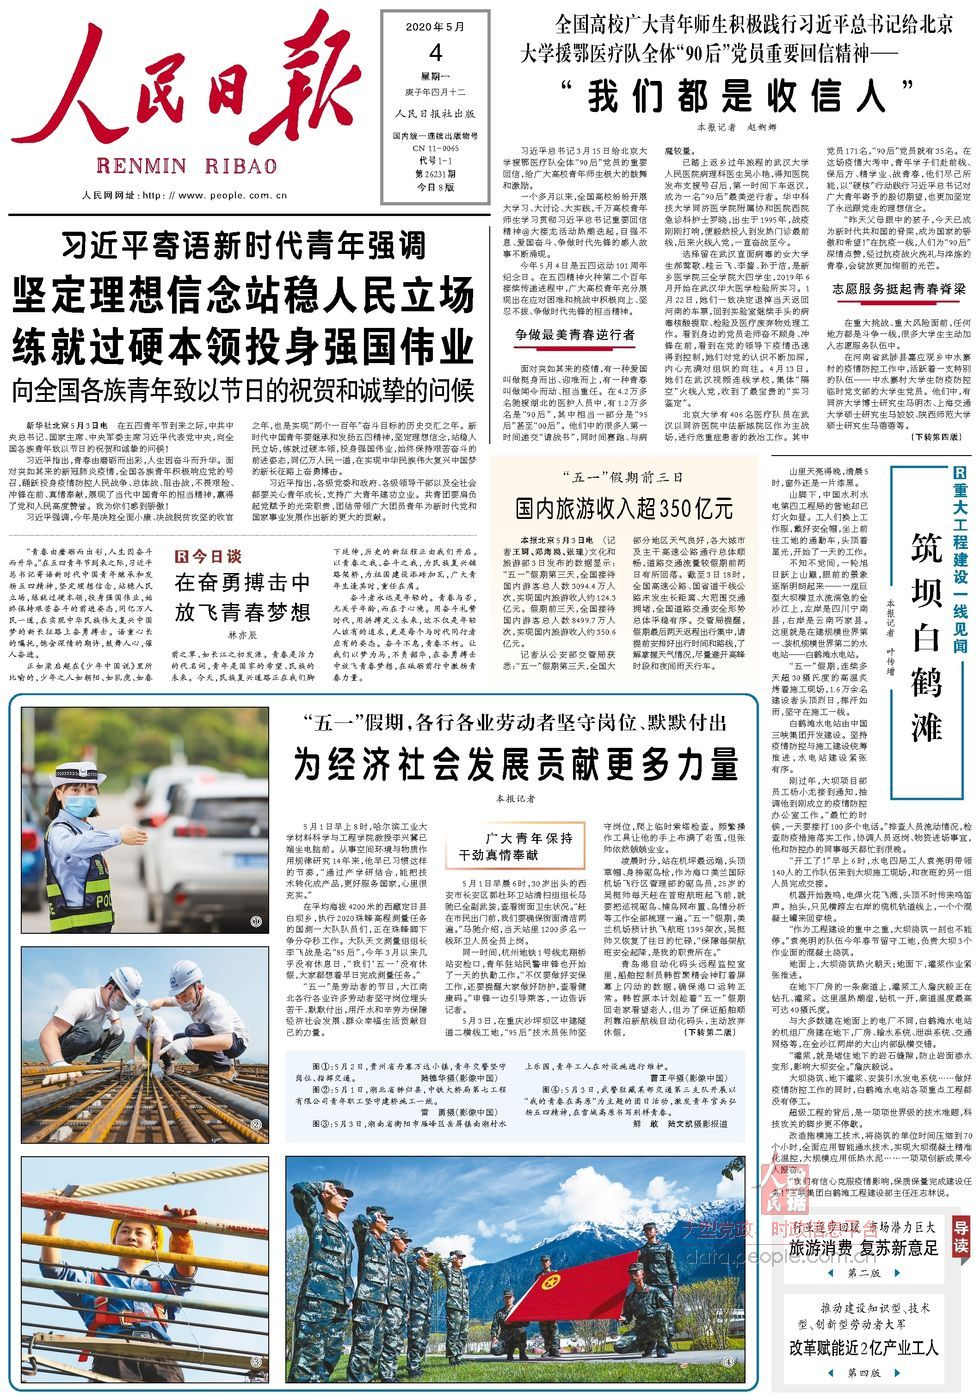pic: (278, 1153, 752, 1385), (18, 701, 272, 939), (17, 1153, 275, 1384), (18, 939, 277, 1150)
